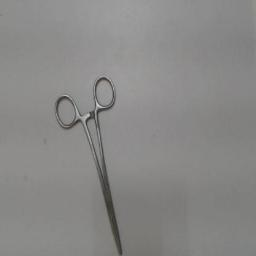Mayo Needle Holder: (50, 72, 126, 256)
